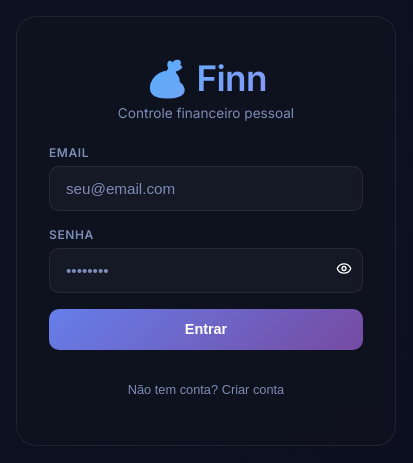
Auth › permite alternar para tela de cadastro
The image size is (413, 463).
Click the button "Não tem conta? Criar conta".
click(206, 390)  # box [49,374,363,405]
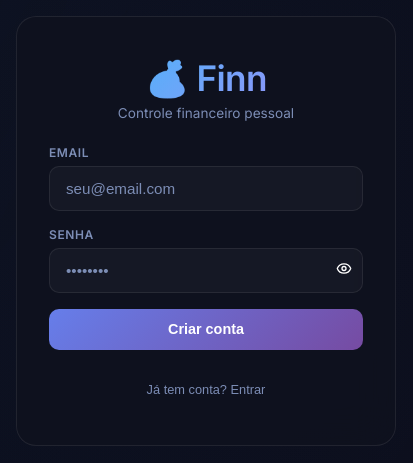
Expected: the button "Criar conta" is shown, [49,309,363,350]
